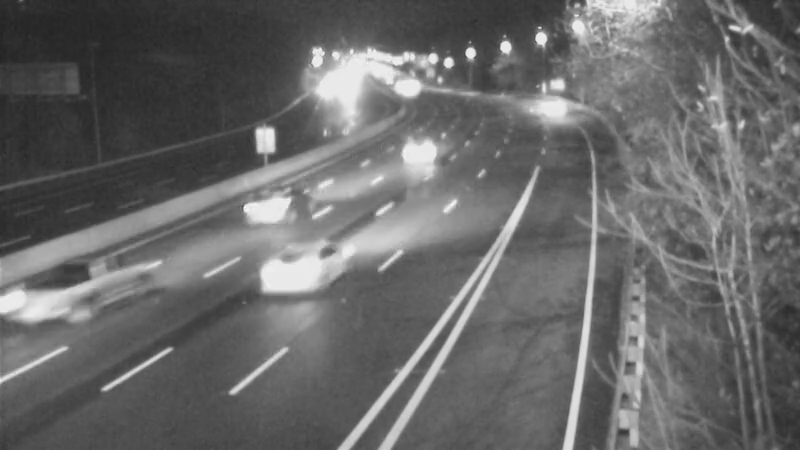vehicle: (226, 166, 306, 246), (252, 231, 332, 311), (6, 260, 86, 340), (530, 85, 580, 135), (398, 123, 448, 173)
